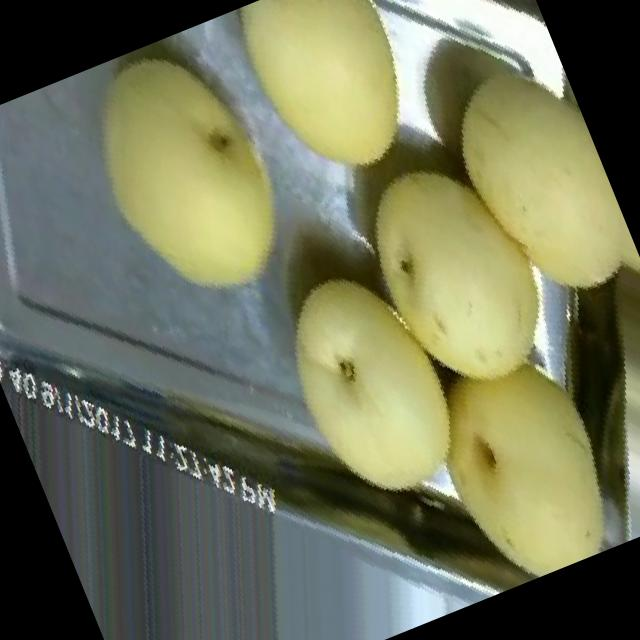Fruit: (37, 10, 338, 347), (306, 108, 609, 440), (232, 225, 518, 548), (393, 27, 640, 372), (377, 305, 640, 606), (198, 0, 486, 222)
